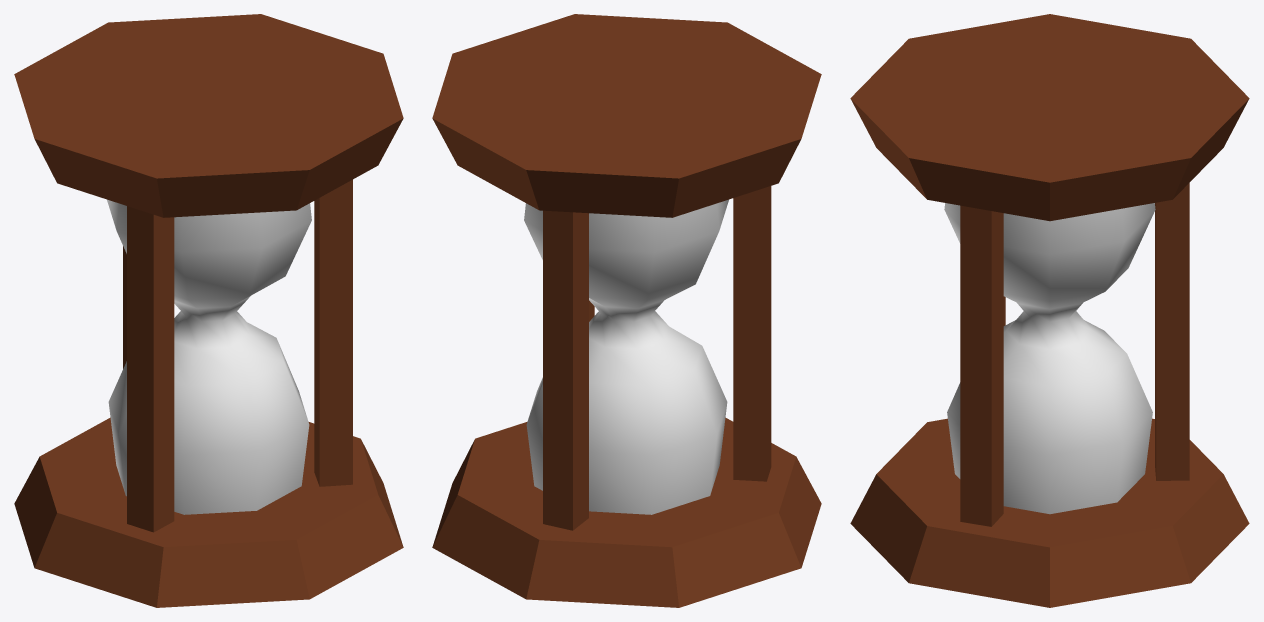
The model's file is Hourglass.fbx.
3 renders of one model, left to right at view 1: azimuth 30°, elevation 25°; view 2: azimuth 150°, elevation 25°; view 3: azimuth 270°, elevation 25°, orthographic.
Parts seen in each view (by area): view 1: Cylinder; view 2: Cylinder; view 3: Cylinder.
Part boxes in pixels (x1,y1,x2,y2): Cylinder: (14, 14, 403, 607); Cylinder: (432, 14, 821, 607); Cylinder: (850, 14, 1249, 607).
Size of the model in its own units: 95.99 by 113 by 95.99.
